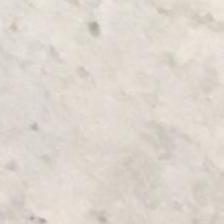Non_Crack: (2, 42, 221, 211)
